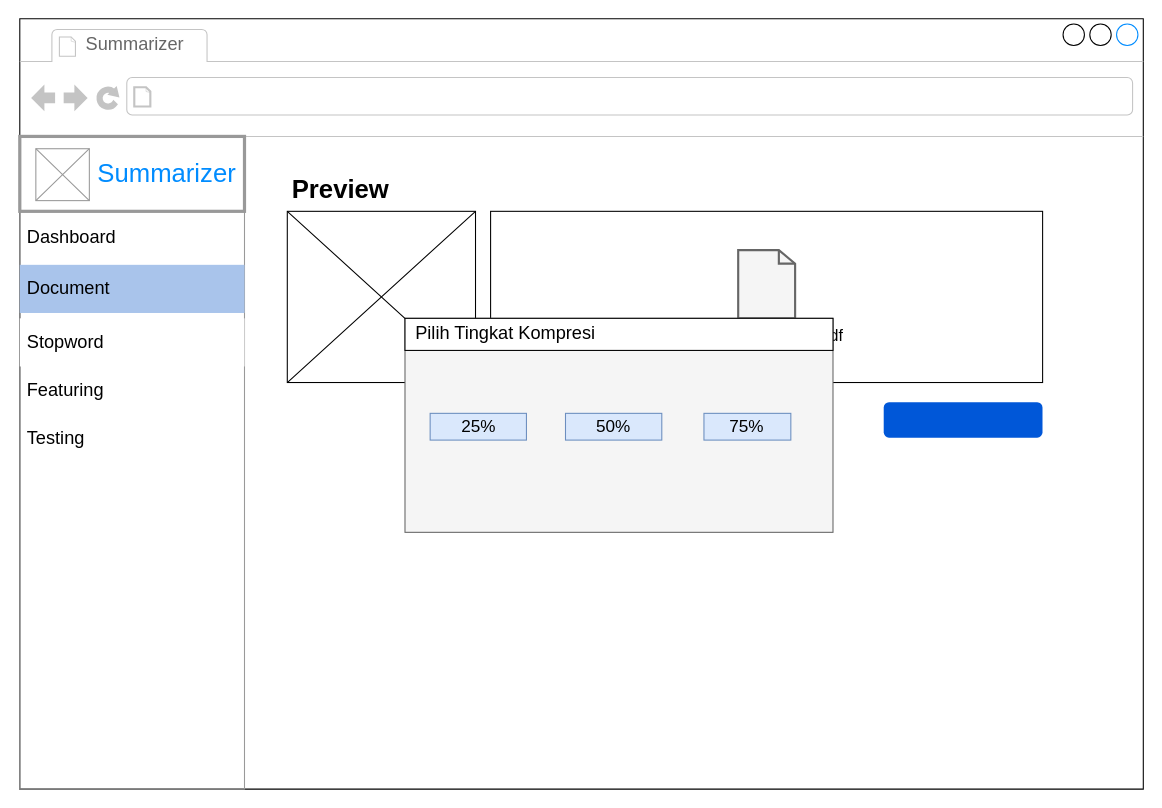
This 1162x808 diagram has some shape labels left out. Each missing label, with the centre of its shape:
https://: (x=292, y=96)
Upload and Summarize: (x=962, y=419)
